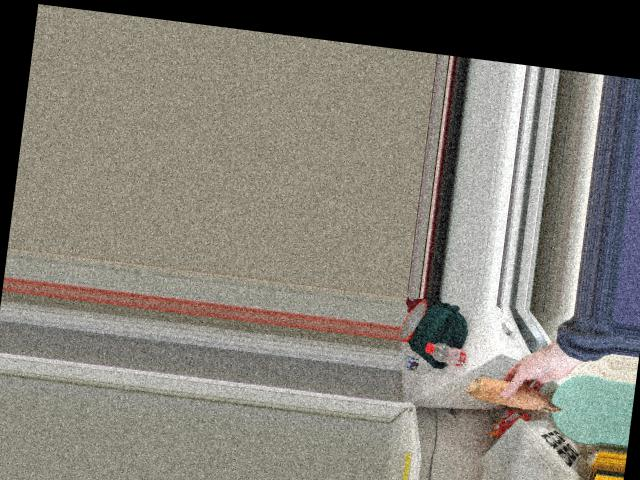sweet_potato: (463, 372, 562, 414)
